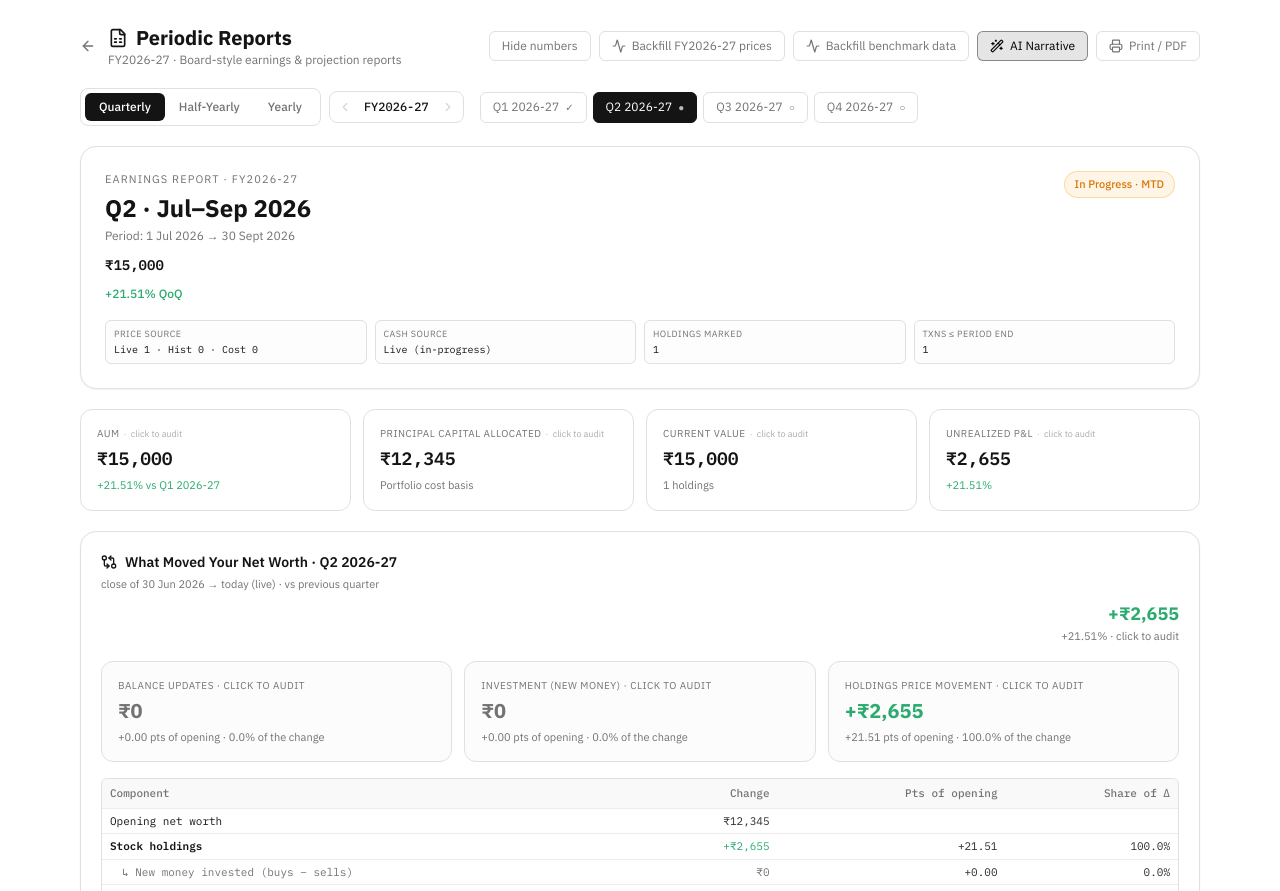
Reports page › shows the real projection start value (not a hardcoded ₹0) for an upcoming period
This screenshot has width=1280, height=891.
# Q4 FY2026-27 (Jan-Mar 2027) is upcoming relative to the fixed "now" of Aug 2026.
Click the button "Q4 2026-27○" at (866, 107), box x1=814 y1=92 x2=918 y2=122
(page scrolled)
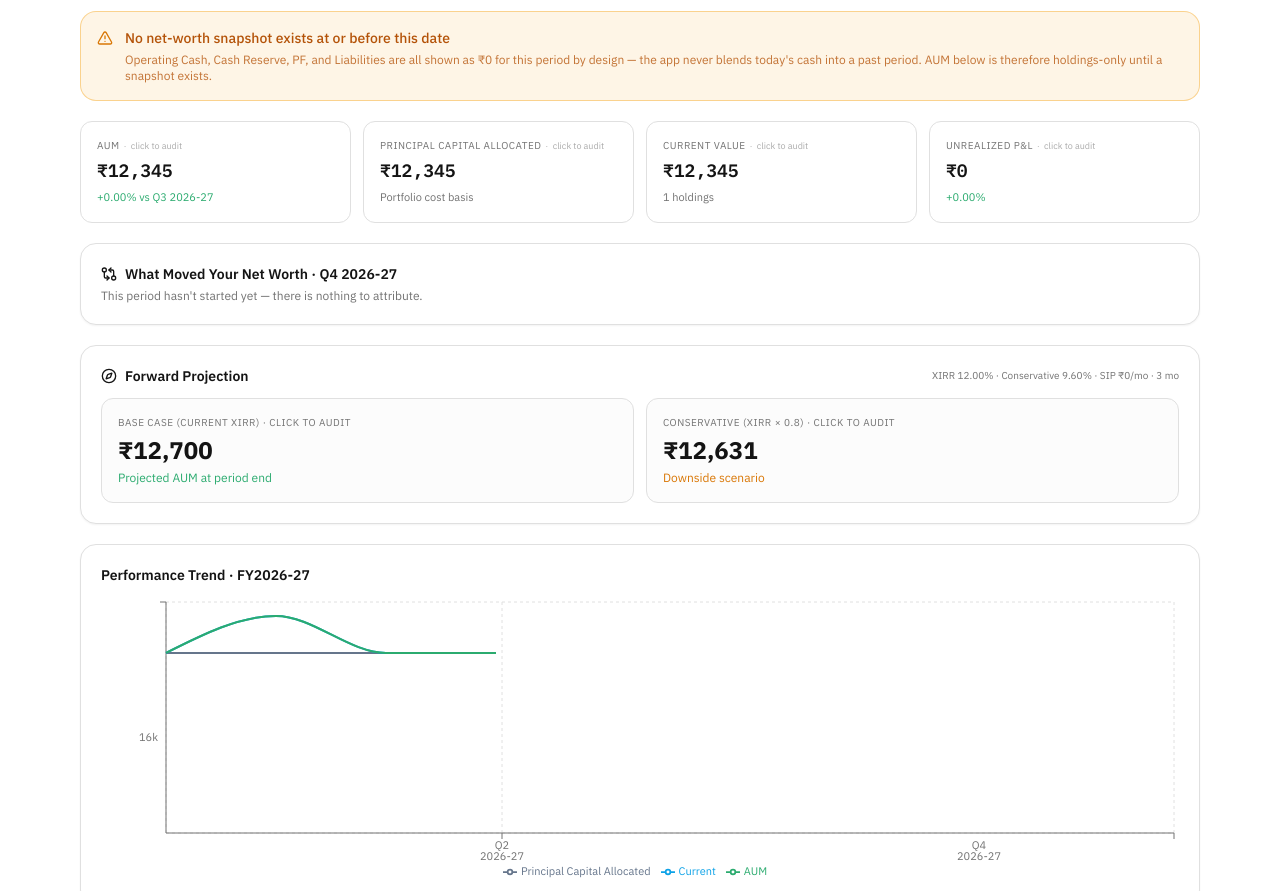
expect the heading "Forward Projection" is shown: met, box x1=125 y1=366 x2=249 y2=386
Click the button with aria-label "Show source calculation for Base Case Projection" at (368, 450), box x1=101 y1=398 x2=634 y2=502
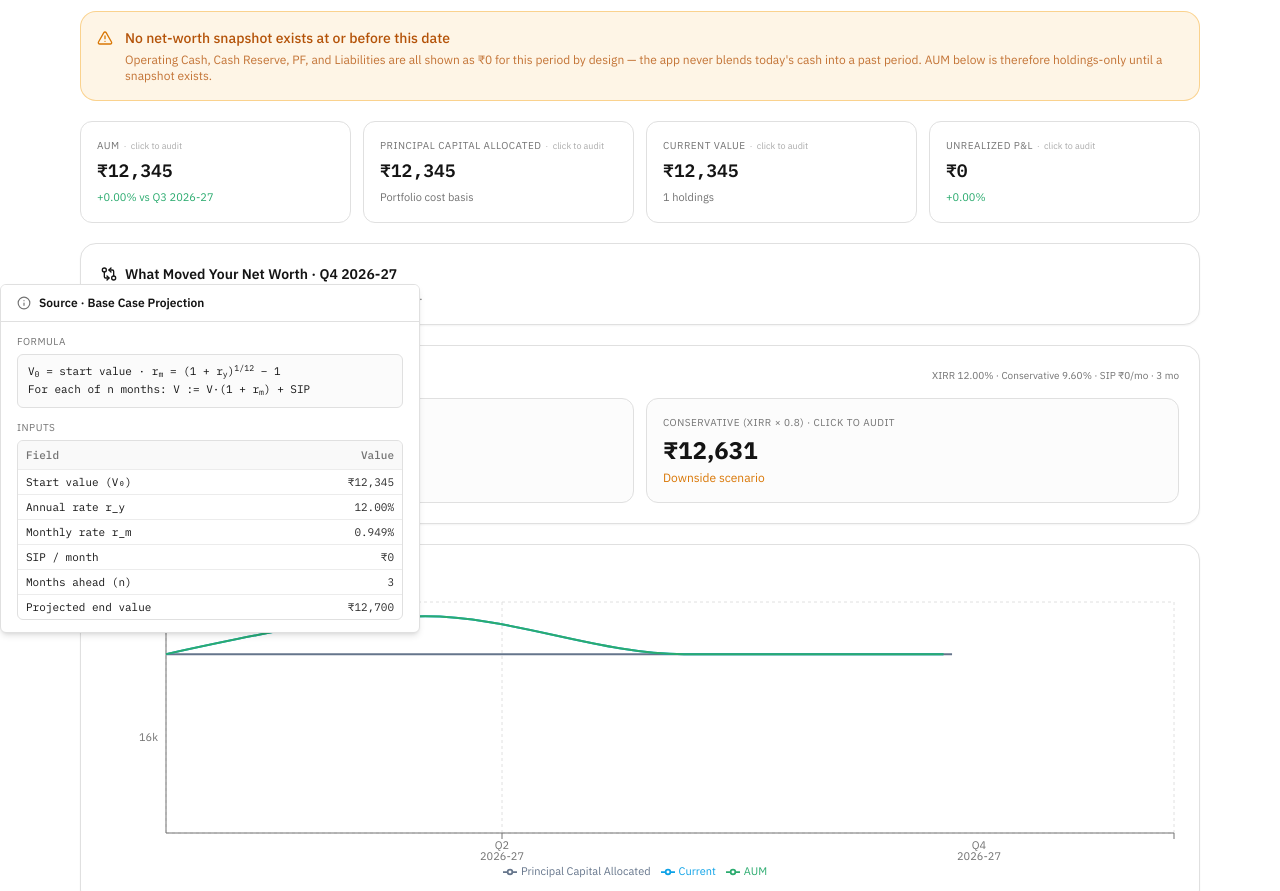
expect the text "Start value (V₀)" is shown: met, box x1=18 y1=469 x2=285 y2=494
expect the text "₹12,345" is shown: met, box x1=285 y1=469 x2=402 y2=494
